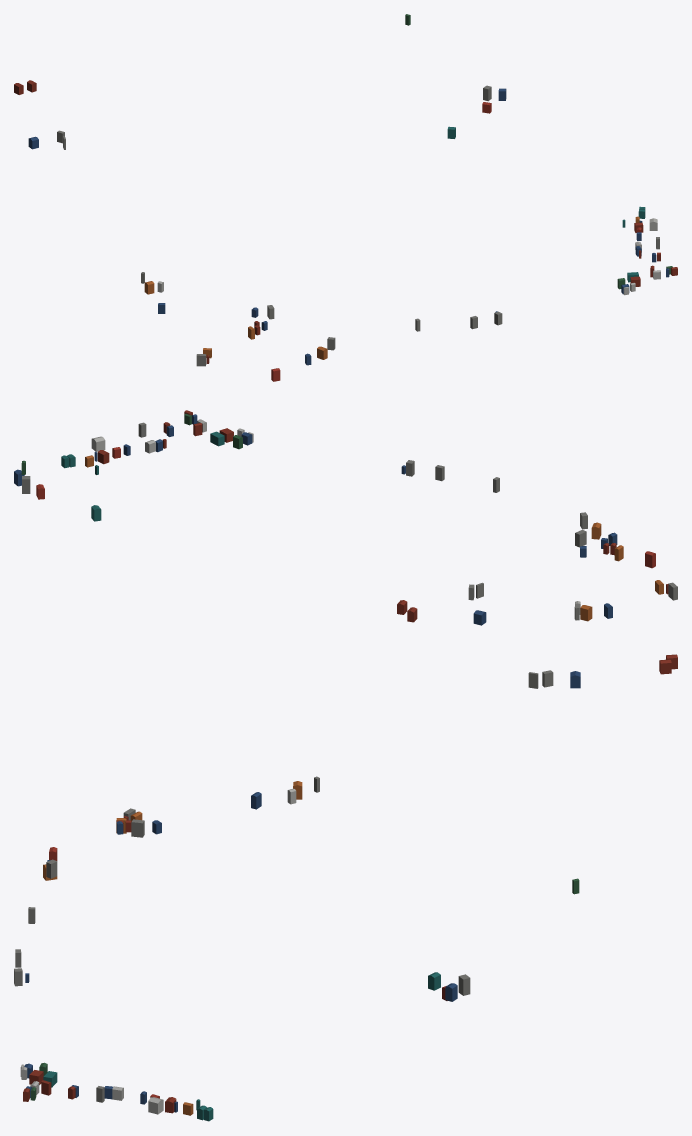
The model's file is near-15-27350-14866.a8ac2611.glb.
3 views of the same model, one above another, from view 1: azimuth 30°, elevation 25°; view 2: azimuth 150°, elevation 25°; view 3: azimuth 270°, elevation 25° (orthographic). The views are drawn at different scales.
Bounding box in the file's own units: 1163 × 339 × 1017.
